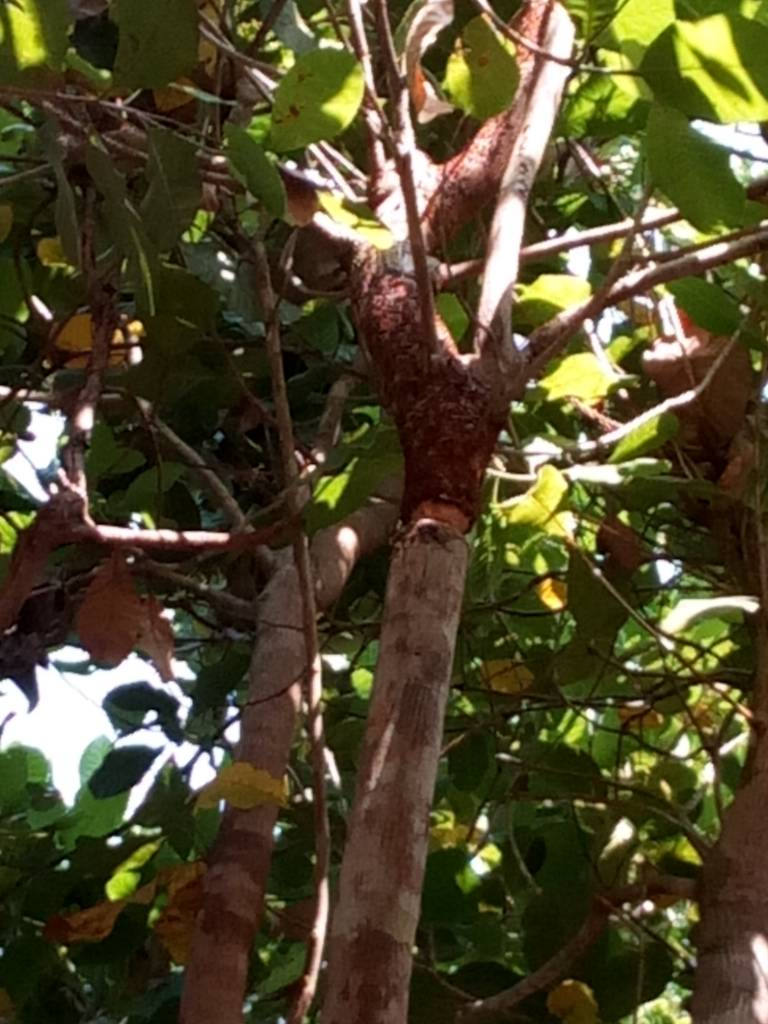Analepse trifasciata: (363, 483, 502, 574)
